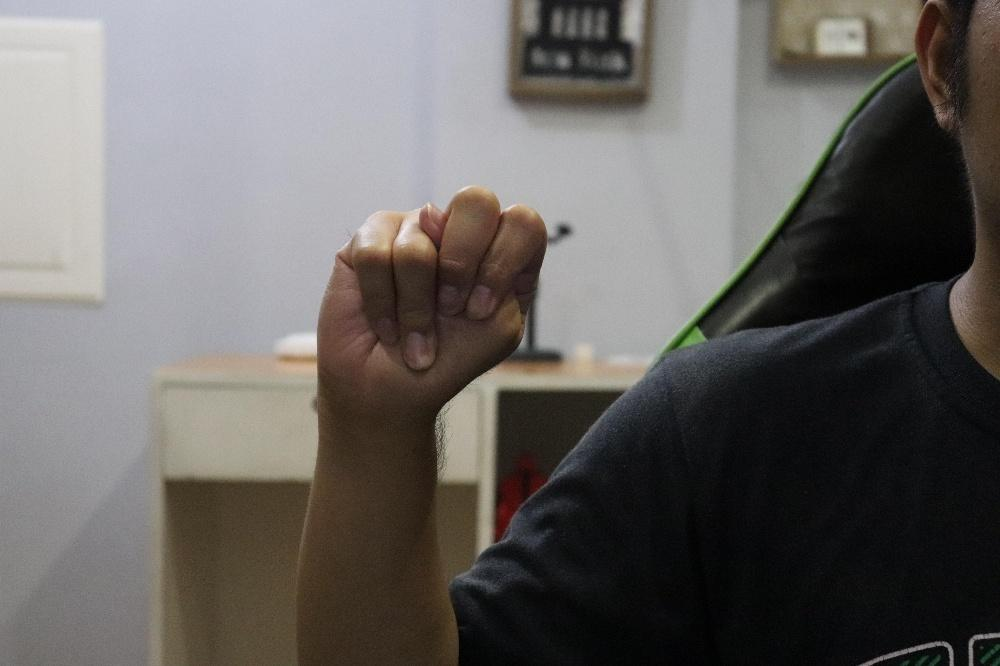n: (315, 182, 547, 415)
